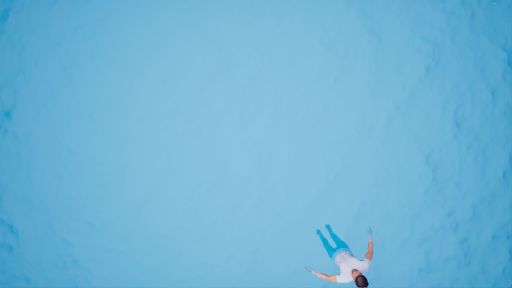person: (305, 221, 383, 286)
